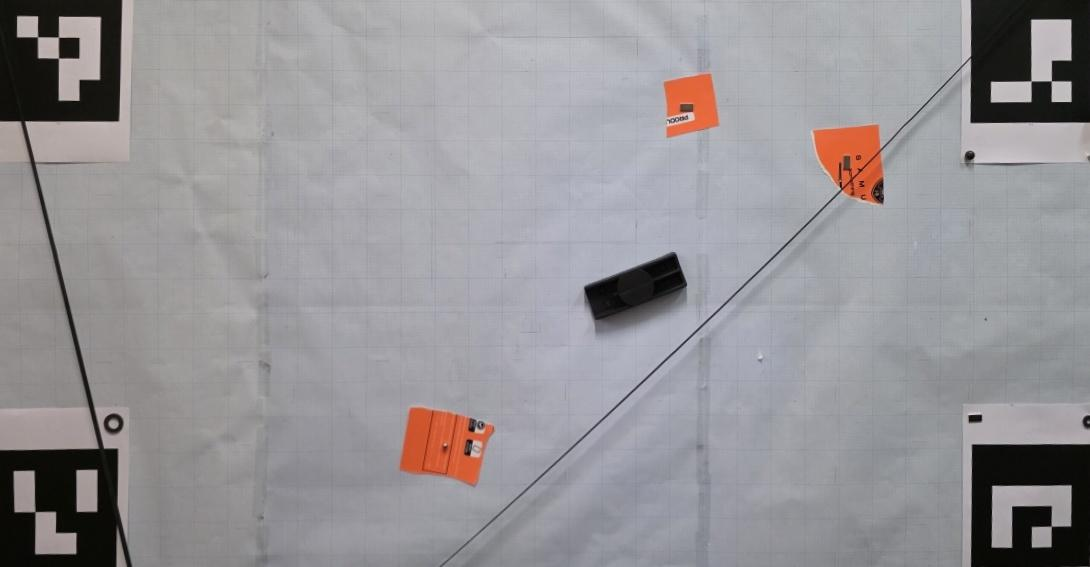obstacle: (399, 405, 496, 488), (582, 252, 686, 320), (812, 123, 884, 206), (664, 73, 719, 138)
